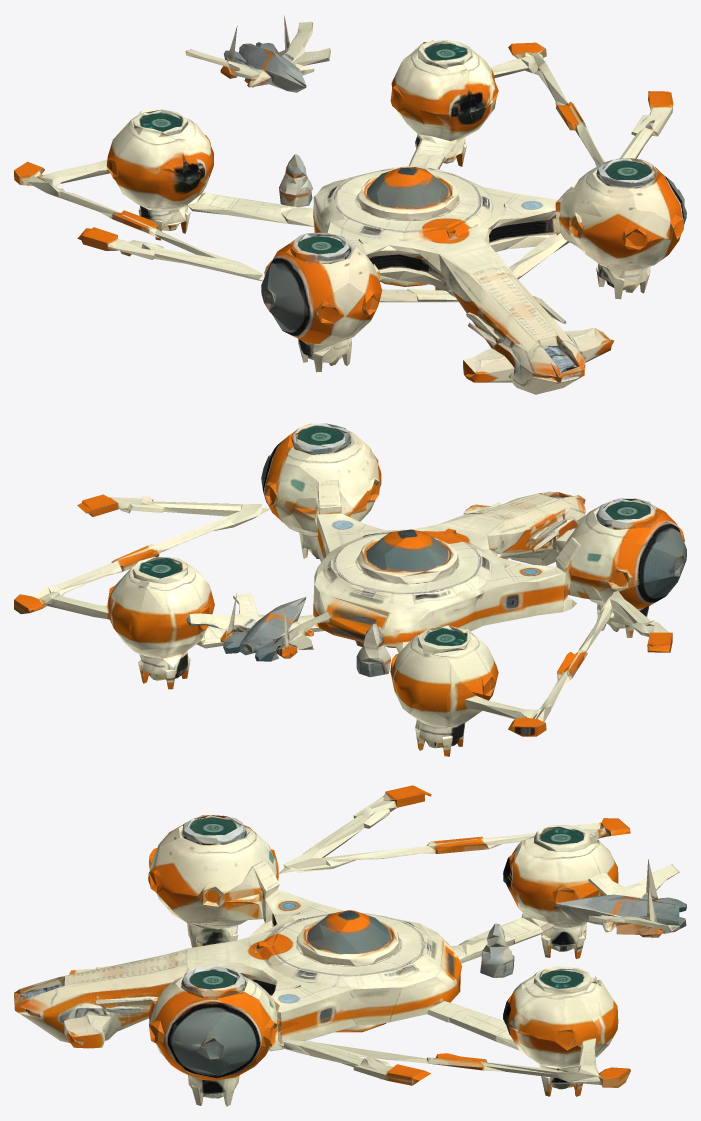
Rendered from nation-e-fortress.glb.
3 renders of one model, top to bottom at view 1: azimuth 30°, elevation 25°; view 2: azimuth 150°, elevation 25°; view 3: azimuth 270°, elevation 25°, orthographic.
Bounding box in the file's own units: 1.9 × 0.4921 × 1.83.
Materials: 1 (1 with a texture image).
